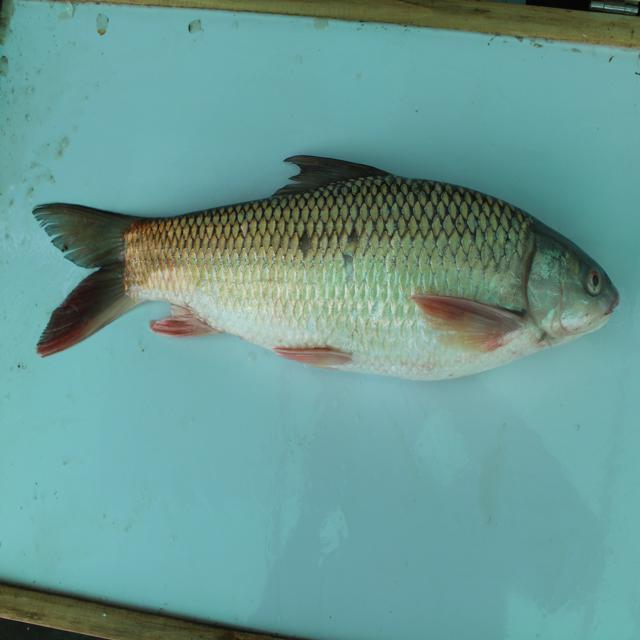Mori: (30, 143, 611, 414)
